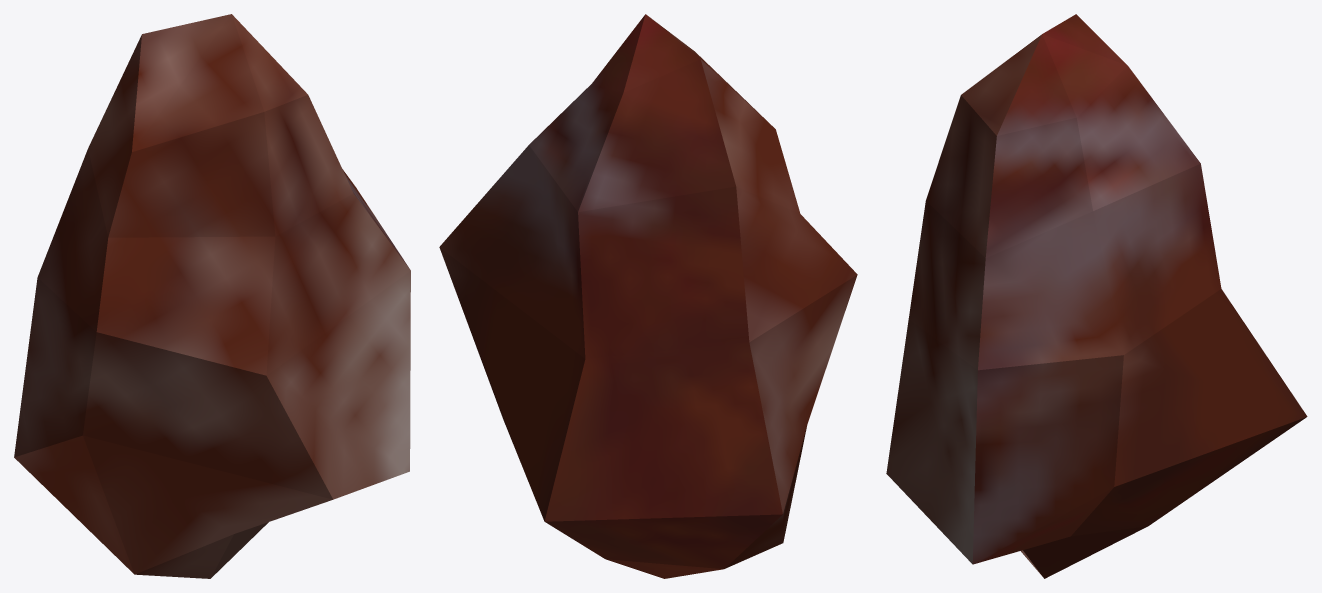
Rendered from bloody pieces4.fbx.
3 renders of one model, left to right at view 1: azimuth 30°, elevation 25°; view 2: azimuth 150°, elevation 25°; view 3: azimuth 270°, elevation 25°, orthographic.
Visible parts, largest first — view 1: Sphere.003; view 2: Sphere.003; view 3: Sphere.003.
Part boxes in pixels (x1,y1,x2,y2): Sphere.003: [14, 14, 410, 578]; Sphere.003: [439, 14, 857, 578]; Sphere.003: [886, 14, 1307, 578].
Size of the model in its own units: 173 by 270 by 186.
1 material, 1 textured.
